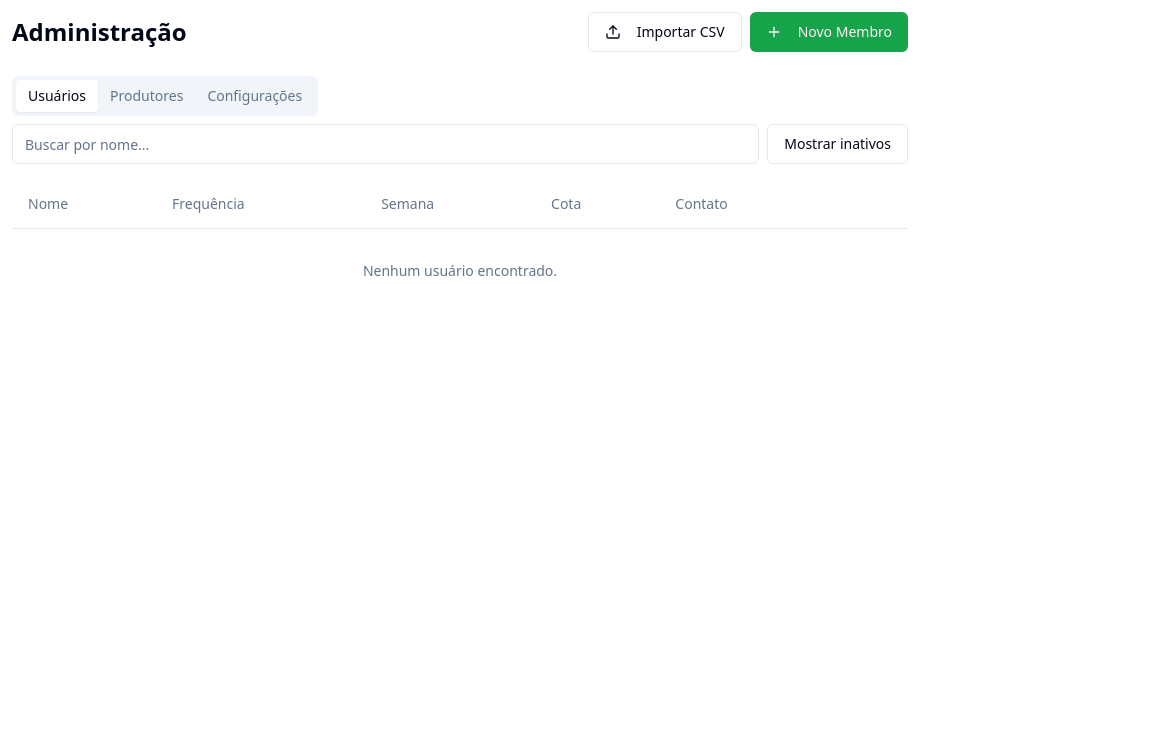
AdminPage — ação principal por aba › aba configurações: nenhuma ação no cabeçalho
Step 1. Click the tab "Configurações" → [255, 96], box [195, 80, 314, 112]
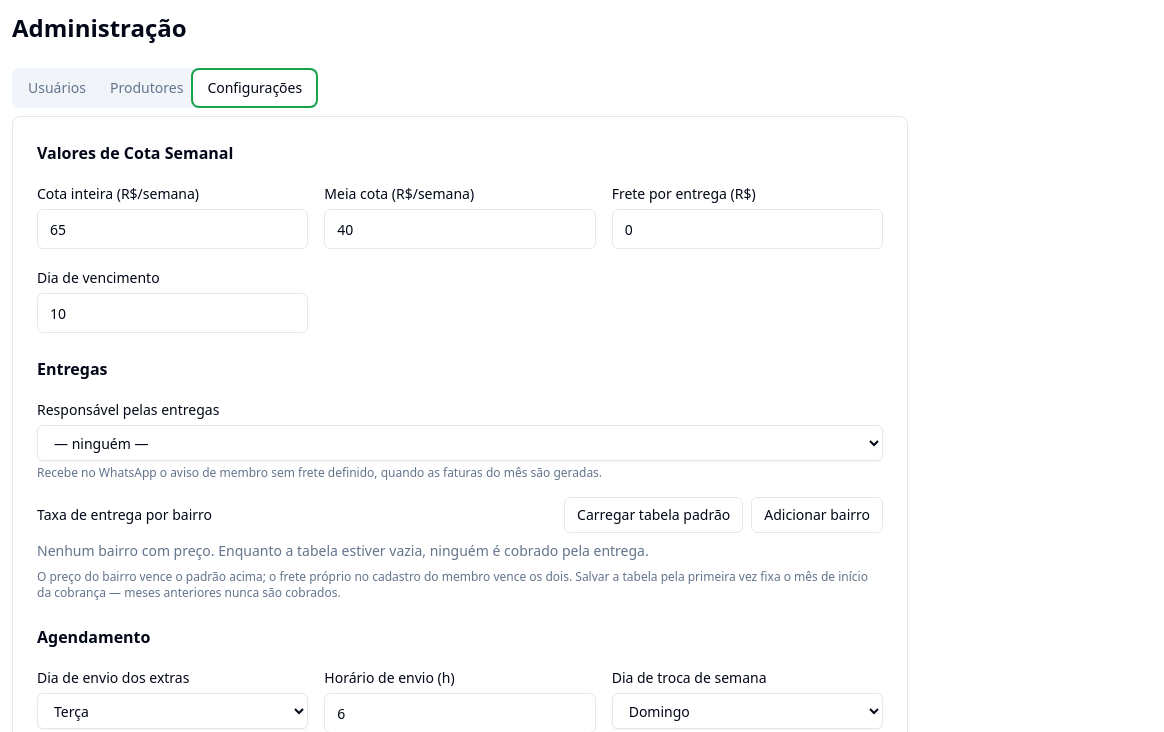
Expected: the button "Novo Membro" is gone
Expected: the button "Importar CSV" is gone
